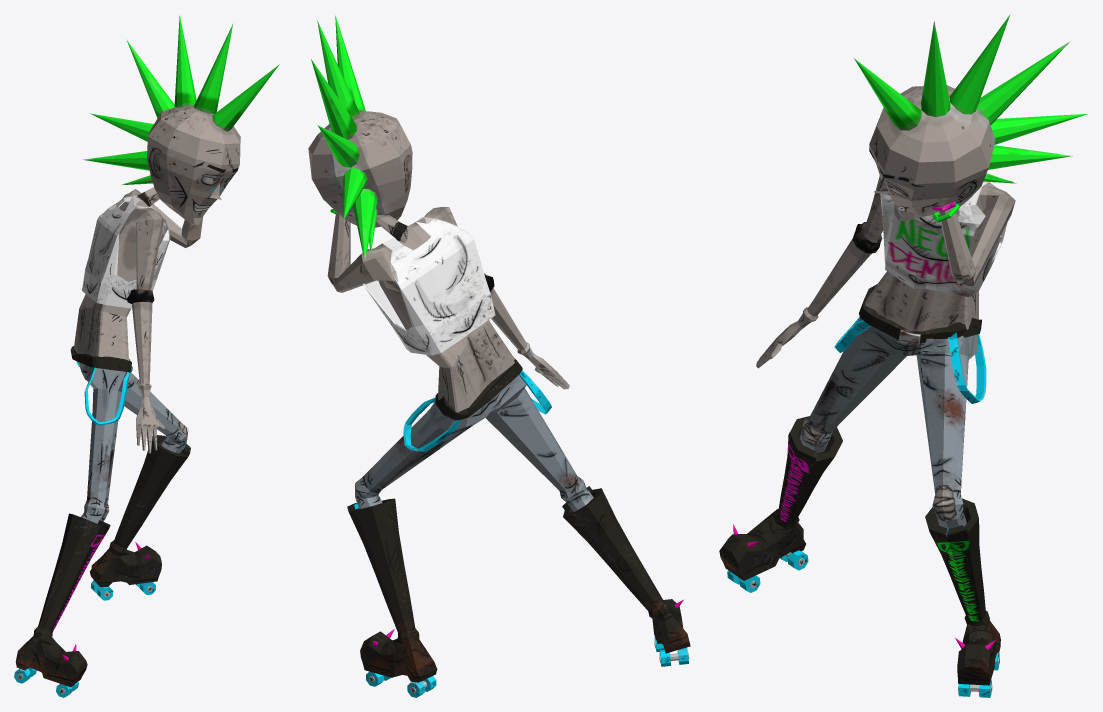
Rendered from punkAnimation_000045.obj.
The picture shows the model from 3 angles, left to right: view 1: azimuth 30°, elevation 25°; view 2: azimuth 150°, elevation 25°; view 3: azimuth 270°, elevation 25°; orthographic projection. The views are drawn at different scales.
Visible parts, largest first — view 1: Cube.004_Cube.003; view 2: Cube.004_Cube.003; view 3: Cube.004_Cube.003.
Part boxes in pixels (bbox=[...]): Cube.004_Cube.003: bbox=[14, 15, 279, 697]; Cube.004_Cube.003: bbox=[308, 15, 690, 697]; Cube.004_Cube.003: bbox=[719, 14, 1087, 697].
Bounding box in the file's own units: 3.63 × 6.69 × 3.11.
